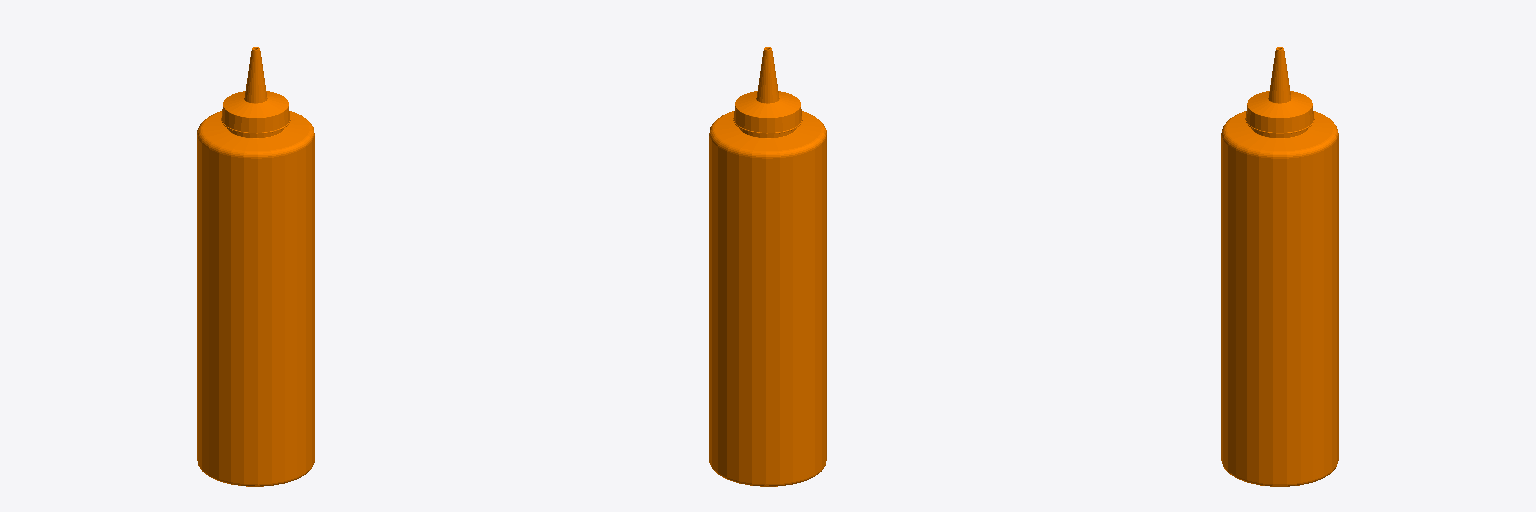
Rendered from BottleMustard.obj.
The picture shows the model from 3 angles: view 1: azimuth 30°, elevation 25°; view 2: azimuth 150°, elevation 25°; view 3: azimuth 270°, elevation 25°; orthographic projection.
Parts seen in each view (by area): view 1: plastic_bottle.001; view 2: plastic_bottle.001; view 3: plastic_bottle.001.
Boxes of the visible parts, box(x1,y1,x2,y2) form: plastic_bottle.001: box(197, 47, 314, 486); plastic_bottle.001: box(709, 47, 826, 486); plastic_bottle.001: box(1221, 47, 1338, 486).
Size of the model in its own units: 0.07 by 0.2731 by 0.07.